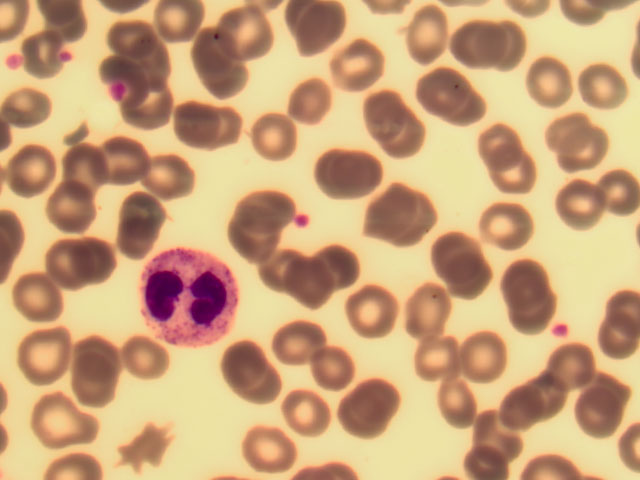Platelets: (59, 51, 85, 69), (4, 52, 27, 69), (553, 322, 569, 342), (104, 82, 124, 96), (297, 214, 310, 226)
RBC: (326, 37, 385, 95), (217, 6, 276, 64), (188, 22, 247, 80), (199, 52, 258, 110), (134, 40, 193, 98), (125, 88, 184, 146), (153, 97, 212, 155), (195, 102, 254, 160), (251, 112, 310, 170), (272, 81, 331, 139), (349, 80, 408, 138), (377, 110, 436, 168), (326, 144, 385, 202), (246, 175, 305, 233), (224, 218, 283, 276), (108, 194, 167, 252), (143, 153, 202, 211), (101, 132, 160, 190), (65, 141, 124, 199), (40, 182, 99, 240), (11, 139, 70, 197), (48, 235, 107, 293), (13, 271, 72, 329), (10, 327, 69, 385), (61, 333, 120, 391), (117, 334, 176, 392), (29, 393, 88, 451), (236, 419, 295, 477), (273, 383, 332, 441), (304, 343, 363, 401), (265, 316, 324, 374), (412, 325, 471, 383), (215, 331, 274, 389), (398, 281, 457, 339), (340, 283, 399, 341), (463, 328, 522, 386), (436, 373, 495, 431), (495, 286, 554, 344), (493, 250, 552, 308), (444, 254, 503, 312), (431, 224, 490, 282), (397, 198, 456, 256), (357, 182, 416, 240), (475, 190, 534, 248), (494, 143, 553, 201), (473, 114, 532, 172), (437, 88, 496, 146), (416, 60, 475, 118), (394, 4, 453, 62), (440, 12, 499, 70), (471, 10, 530, 68), (516, 39, 575, 97), (565, 55, 624, 113), (548, 109, 607, 167), (545, 177, 604, 235), (581, 300, 640, 358), (543, 349, 602, 407), (512, 372, 571, 430), (486, 395, 545, 453), (571, 386, 630, 444), (341, 382, 400, 440)
WBC: (135, 249, 243, 348)
